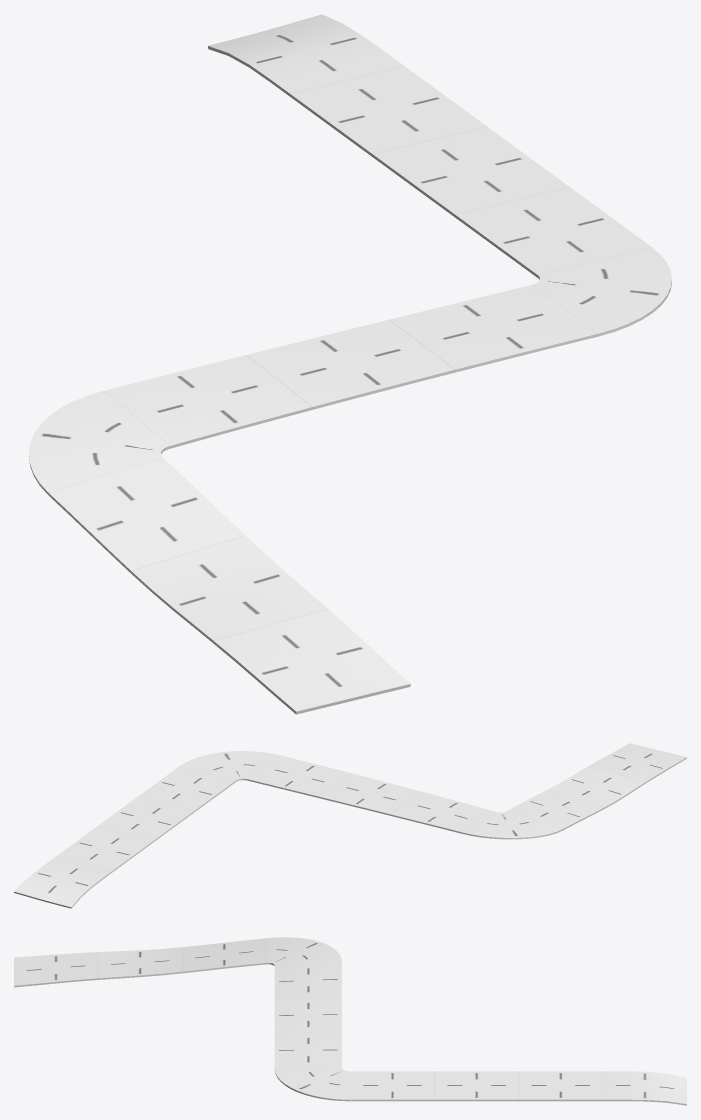
File: terrain8-road-test.fbx
3 views of the same model, one above another, from view 1: azimuth 30°, elevation 25°; view 2: azimuth 150°, elevation 25°; view 3: azimuth 270°, elevation 25° (orthographic). The views are drawn at different scales.
Visible parts, largest first — view 1: Plane_003, Plane_018, Plane_020, Plane_016, Plane_017, Plane_015, Plane_014, Plane_013, Plane_010, BezierCircle_002, Plane_019, BezierCircle_001; view 2: Plane_019, Plane_015, Plane_010, Plane_013, Plane_014, Plane_017, Plane_016, Plane_020, Plane_018, Plane_003, BezierCircle_001, BezierCircle_002; view 3: Plane_010, Plane_013, Plane_014, Plane_019, Plane_018, Plane_015, Plane_017, Plane_016, Plane_020, Plane_003, BezierCircle_001, BezierCircle_002.
Boxes of the visible parts, x1,y1,x2,y2 form: Plane_003: (48, 458, 244, 573); Plane_018: (213, 609, 410, 714); Plane_020: (131, 535, 327, 643); Plane_016: (103, 355, 311, 448); Plane_017: (246, 319, 454, 409); Plane_015: (389, 284, 597, 372); Plane_014: (455, 187, 651, 277); Plane_013: (373, 126, 569, 217); Plane_010: (290, 66, 486, 156); BezierCircle_002: (29, 391, 168, 495); Plane_019: (208, 14, 404, 96); BezierCircle_001: (532, 247, 671, 336); Plane_019: (14, 857, 112, 908); Plane_015: (247, 755, 351, 797); Plane_010: (56, 827, 153, 872); Plane_013: (97, 797, 194, 841); Plane_014: (138, 766, 236, 811); Plane_017: (319, 773, 422, 815); Plane_016: (390, 792, 494, 833); Plane_020: (547, 766, 645, 808); Plane_018: (589, 743, 686, 783); Plane_003: (506, 790, 604, 830); BezierCircle_001: (179, 751, 279, 781); BezierCircle_002: (461, 811, 563, 839); Plane_010: (518, 1071, 602, 1101); Plane_013: (434, 1071, 518, 1101); Plane_014: (350, 1071, 434, 1101); Plane_019: (603, 1071, 686, 1105); Plane_018: (14, 952, 98, 987); Plane_015: (274, 1032, 341, 1067); Plane_017: (274, 997, 341, 1032); Plane_016: (274, 962, 341, 998); Plane_020: (98, 947, 182, 979); Plane_003: (182, 938, 266, 973); BezierCircle_001: (274, 1067, 350, 1101); BezierCircle_002: (266, 937, 341, 965).
Size of the model in its own units: 480 by 39.24 by 800.
